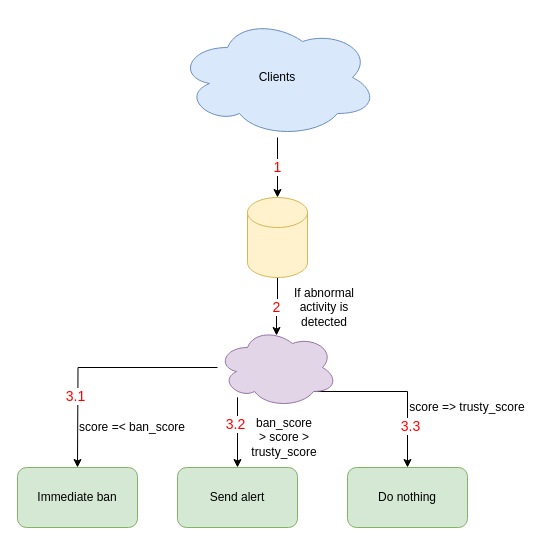
Some shapes in this 545 by 545 pixel diagram are drawn without their labels. The shapes that lost their labels are listed below. From the top down, each one's centre as x and y in pixels, then its label:
At [277,237]: "Database".
At [277,367]: "Scoring System".
